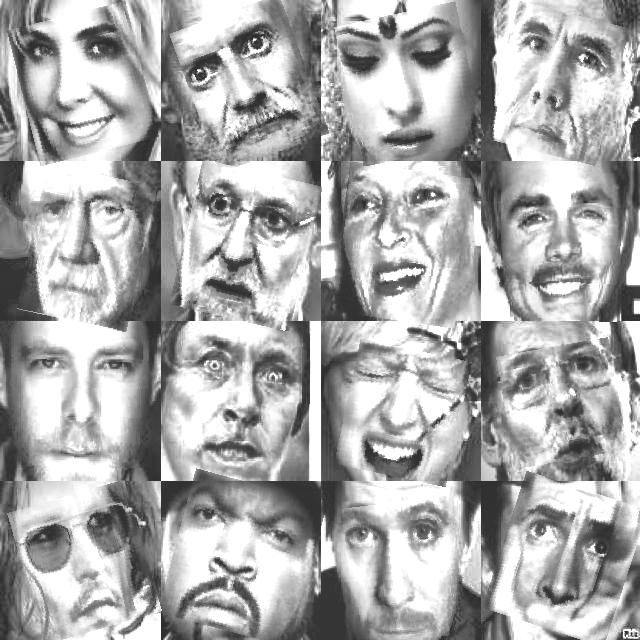angry: (167, 476, 319, 640), (16, 486, 154, 637), (24, 168, 150, 327), (180, 332, 310, 474), (501, 342, 624, 464)
fear: (492, 479, 638, 639), (176, 165, 314, 326), (340, 344, 466, 482)
happy: (335, 165, 471, 324), (15, 8, 151, 160), (500, 168, 626, 320)
neutral: (180, 1, 319, 165), (341, 6, 479, 160), (492, 7, 622, 161), (345, 498, 464, 640), (30, 337, 148, 468)
